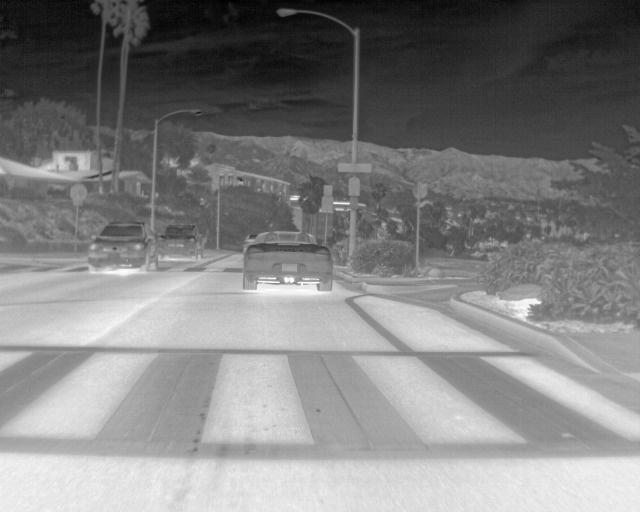car: (241, 228, 332, 292), (88, 220, 158, 273), (157, 222, 207, 261)
